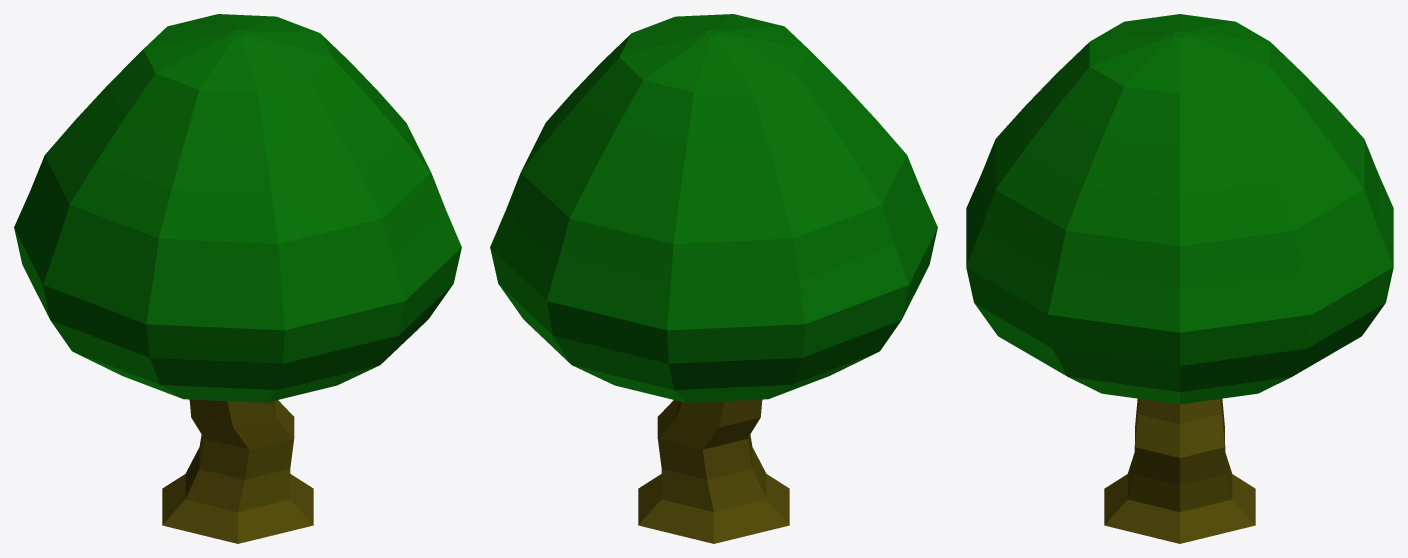
Rendered from BallTree100cm.fbx.
3 renders of one model, left to right at view 1: azimuth 30°, elevation 25°; view 2: azimuth 150°, elevation 25°; view 3: azimuth 270°, elevation 25°, orthographic.
Parts seen in each view (by area): view 1: pCone1, pCylinder1; view 2: pCone1, pCylinder1; view 3: pCone1, pCylinder1.
Boxes of the visible parts, x1=… form: pCone1: x1=14, y1=14, x2=461, y2=402; pCylinder1: x1=162, y1=399, x2=313, y2=543; pCone1: x1=490, y1=14, x2=937, y2=402; pCylinder1: x1=638, y1=399, x2=789, y2=543; pCone1: x1=966, y1=14, x2=1393, y2=404; pCylinder1: x1=1104, y1=398, x2=1255, y2=543.
Bounding box in the file's own units: 665 × 773 × 633.
